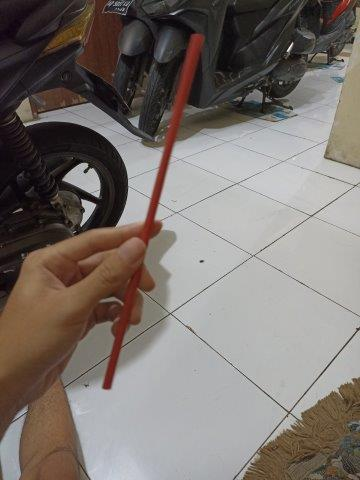sedotan: (102, 36, 203, 389)
